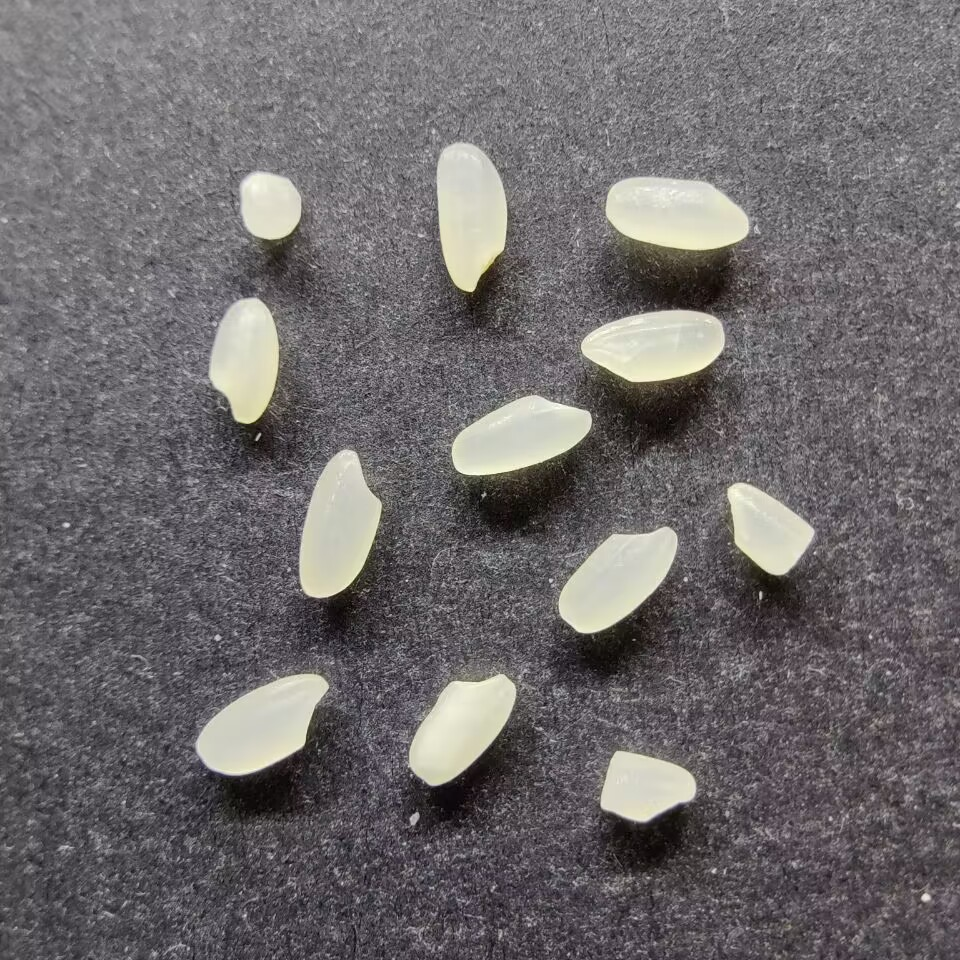broken: (726, 482, 816, 576), (599, 749, 696, 824), (239, 170, 302, 241)
rice: (195, 674, 328, 776), (557, 526, 678, 634), (297, 449, 381, 598), (408, 672, 516, 786), (450, 393, 591, 475), (435, 142, 507, 292), (604, 176, 749, 250), (580, 309, 725, 383), (207, 297, 279, 423)
